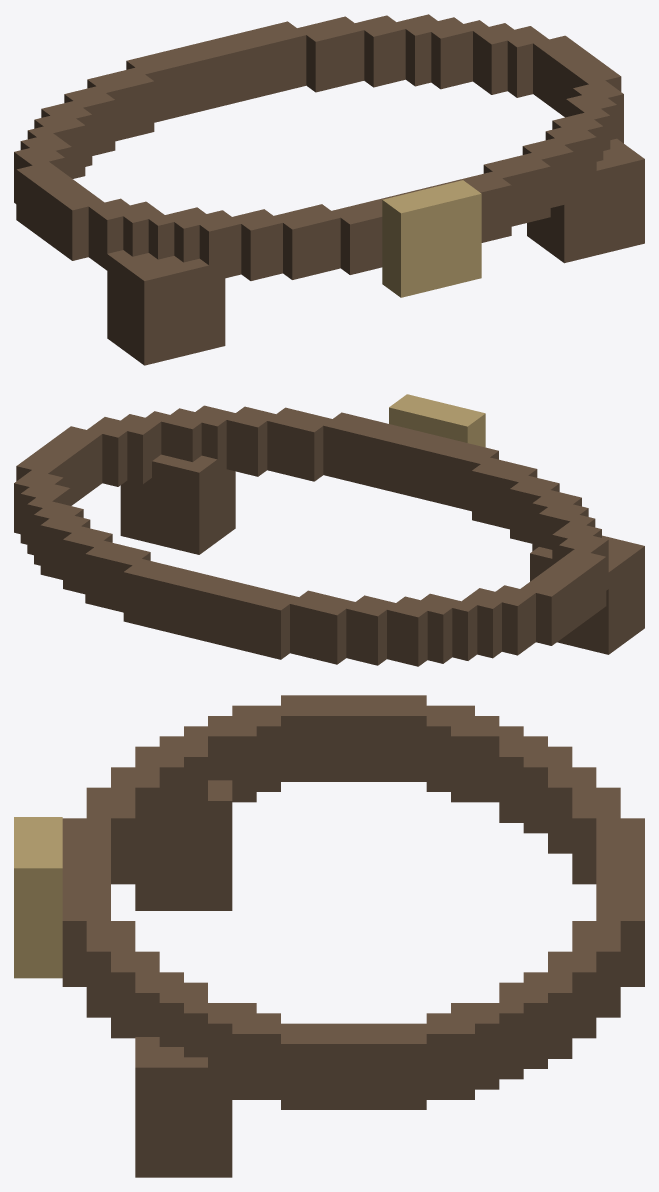
Rendered from leather_rare_belt.glb.
3 renders of one model, top to bottom at view 1: azimuth 30°, elevation 25°; view 2: azimuth 150°, elevation 25°; view 3: azimuth 270°, elevation 25°, orthographic. The views are drawn at different scales.
Parts seen in each view (by area): view 1: leather_rare_belt; view 2: leather_rare_belt; view 3: leather_rare_belt.
Boxes of the visible parts, box(x1,y1,x2,y2) form: leather_rare_belt: box(14, 14, 644, 365); leather_rare_belt: box(14, 394, 644, 666); leather_rare_belt: box(14, 695, 644, 1177).
Bounding box in the file's own units: 0.408 × 0.096 × 0.312.
